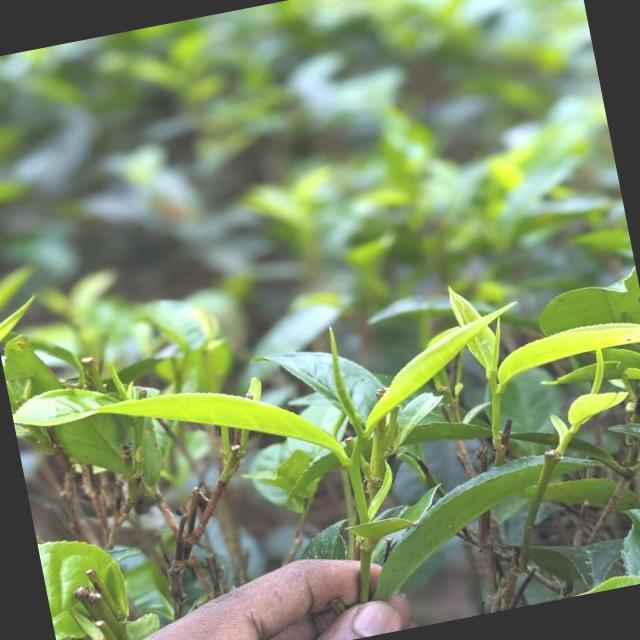Stem: (350, 462, 359, 474), (492, 392, 501, 403)
